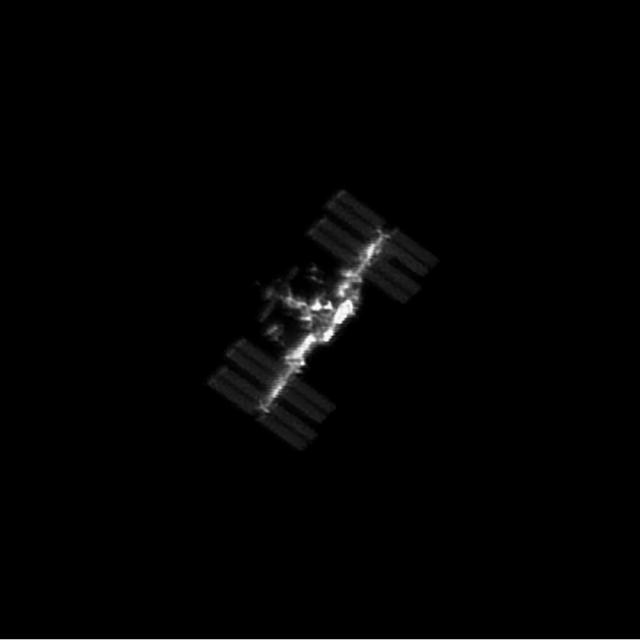medium_debris: (208, 190, 439, 451)
